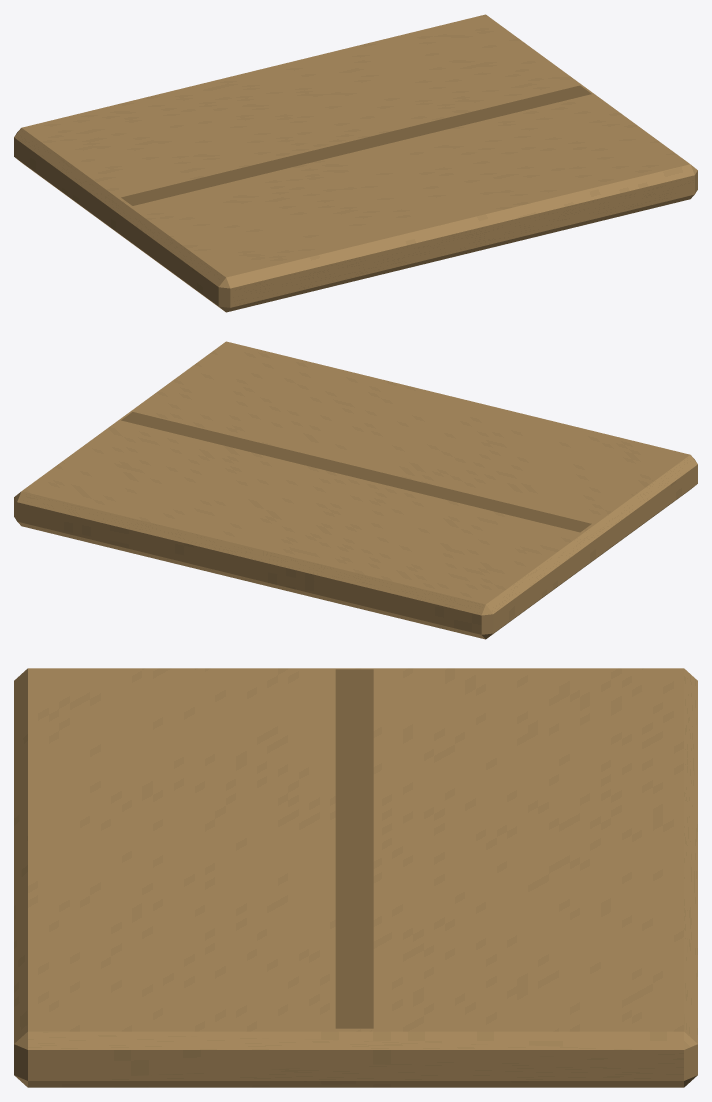
File: box_oversize_folded.glb
3 views of the same model, one above another, from view 1: azimuth 30°, elevation 25°; view 2: azimuth 150°, elevation 25°; view 3: azimuth 270°, elevation 25° (orthographic). The views are drawn at different scales.
Parts seen in each view (by area): view 1: block_collapsed box, block_fold or seam; view 2: block_collapsed box, block_fold or seam; view 3: block_collapsed box, block_fold or seam.
Part boxes in pixels (x1=…): block_collapsed box: x1=14, y1=14, x2=697, y2=312; block_fold or seam: x1=121, y1=85, x2=591, y2=205; block_collapsed box: x1=14, y1=341, x2=697, y2=639; block_fold or seam: x1=121, y1=412, x2=591, y2=532; block_collapsed box: x1=14, y1=668, x2=697, y2=1087; block_fold or seam: x1=335, y1=669, x2=373, y2=1028.
Size of the model in its own units: 2.2 by 0.1558 by 1.7.
1 material, 1 textured.
